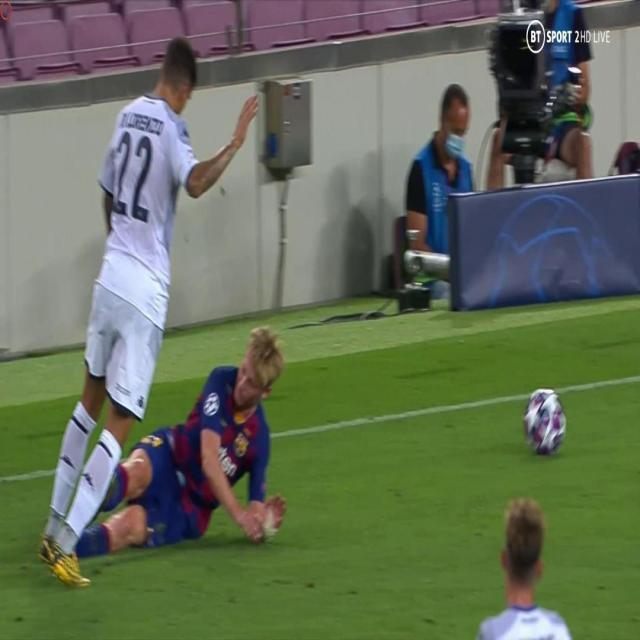ball: (519, 379, 573, 460)
player: (18, 7, 261, 584), (66, 329, 304, 568)
